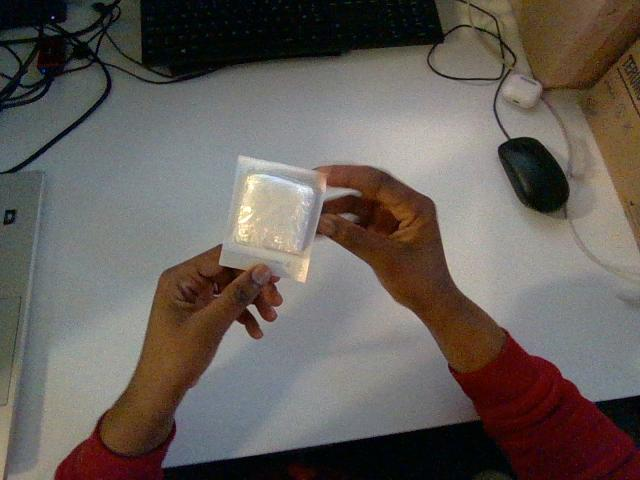gauze: (220, 156, 325, 281)
